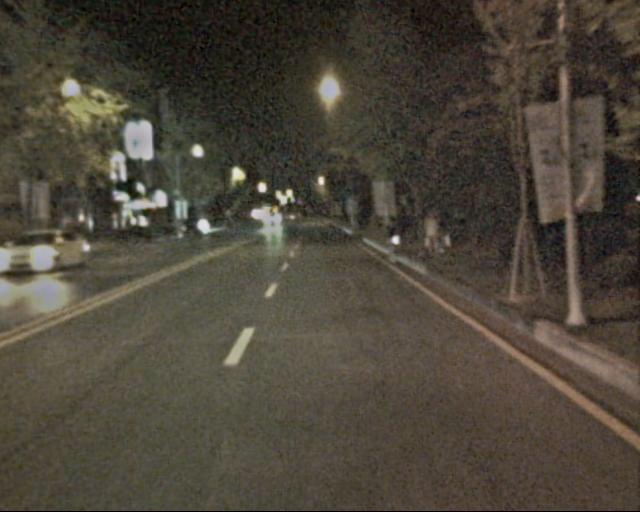person: (383, 218, 403, 261), (430, 213, 449, 256), (421, 215, 437, 255)
